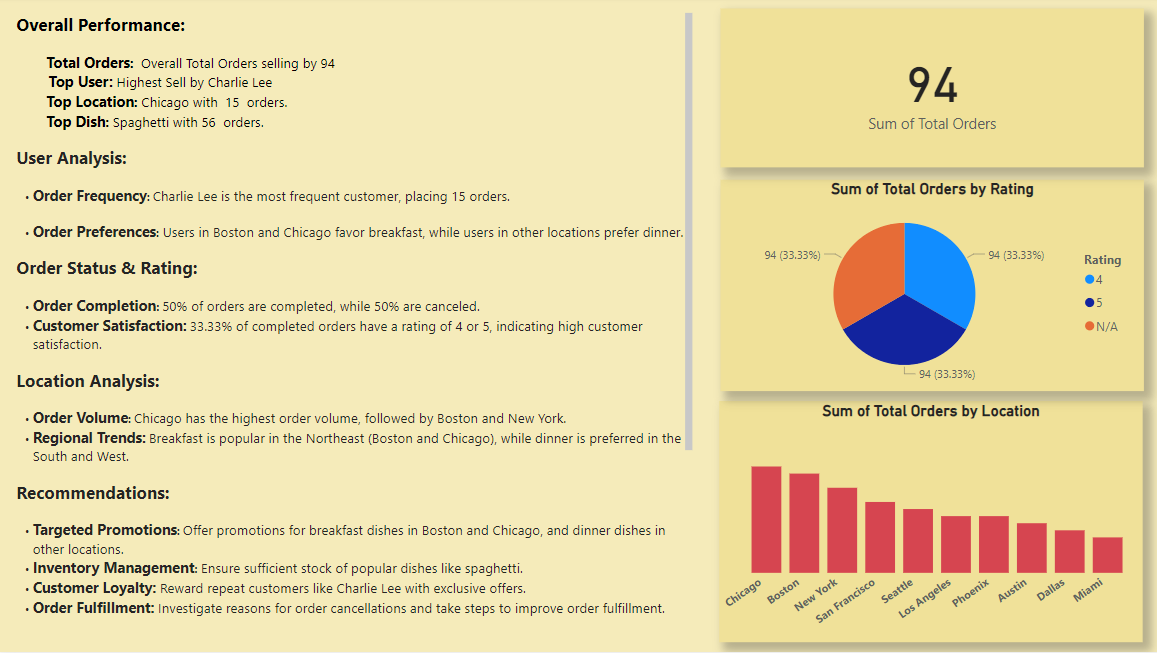

The page's visual inventory and layout, read from the dashboard file:
{"tool":"powerbi","page":{"name":"REPORT ANALYSIS","canvas":[1280,720],"ordinal":1},"visuals":[{"type":"textbox","box":[15.1,13.7,752,695.7],"z":1},{"type":"columnChart","fields":{"Y":["Sum(UserDetails csv.Total Orders)"],"Category":["UserDetails csv.Location"]},"box":[791.8,444.6,465.2,264.8],"z":2},{"type":"pieChart","fields":{"Y":["Sum(UserDetails csv.Total Orders)"],"Category":["OrderDetails csv.Rating"]},"box":[793.1,201.7,465.2,231.9],"z":3},{"type":"card","fields":{"Values":["Sum(UserDetails csv.Total Orders)"]},"box":[793.1,13.7,465.2,174.3],"z":4}]}

Visuals, with their boxes in screenshot pixels (x1, y1, x2, y2), scaled from the page's 1280x720 canvas onto the 1157x653 screenshot:
textbox: [14, 12, 693, 643]
columnChart - Sum(UserDetails csv.Total Orders) x UserDetails csv.Location: [716, 403, 1136, 643]
pieChart - Sum(UserDetails csv.Total Orders) x OrderDetails csv.Rating: [717, 183, 1137, 393]
card - Sum(UserDetails csv.Total Orders): [717, 12, 1137, 171]
